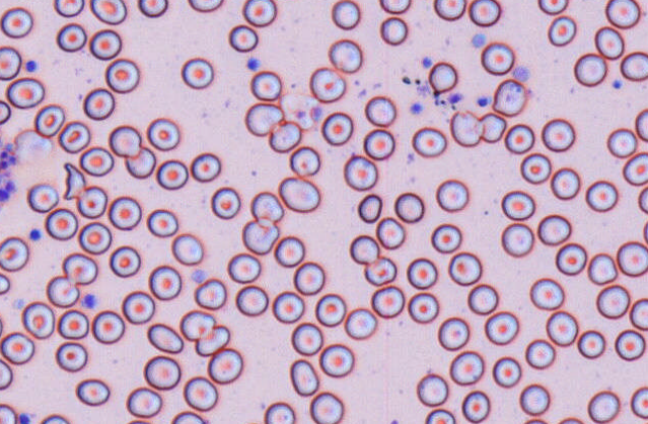PLT: (81, 292, 98, 311), (28, 226, 44, 245), (246, 56, 262, 71), (476, 93, 492, 108), (409, 103, 426, 115), (17, 412, 34, 424), (448, 92, 464, 104), (25, 59, 38, 73), (421, 56, 434, 70), (612, 78, 625, 91)
RBC: (278, 176, 320, 212), (242, 218, 279, 254), (207, 347, 243, 384), (143, 355, 181, 390), (244, 102, 283, 136), (309, 66, 345, 102), (492, 78, 526, 116), (21, 301, 55, 339), (183, 375, 218, 411), (449, 350, 484, 385), (484, 310, 519, 345), (343, 154, 377, 190), (105, 57, 139, 93), (449, 109, 482, 146), (13, 128, 52, 159), (5, 77, 44, 108), (319, 343, 354, 377), (328, 38, 362, 73), (596, 284, 630, 319), (91, 309, 125, 344), (447, 251, 482, 285), (541, 117, 575, 152), (545, 310, 578, 346), (148, 264, 181, 300), (573, 52, 607, 86), (480, 41, 514, 75), (121, 290, 155, 324), (146, 117, 180, 151), (62, 252, 97, 285), (501, 222, 534, 257), (529, 277, 564, 310), (108, 195, 141, 230), (179, 309, 215, 341), (126, 386, 162, 418), (146, 322, 183, 353), (289, 358, 319, 396), (0, 331, 34, 364), (370, 285, 404, 318), (78, 221, 112, 254), (435, 178, 468, 212), (309, 391, 344, 423), (616, 240, 647, 276), (587, 390, 620, 423), (290, 322, 323, 355), (45, 207, 78, 240), (57, 120, 90, 153), (108, 124, 141, 157), (585, 179, 618, 212), (82, 87, 115, 120), (195, 324, 229, 356), (250, 191, 284, 223), (437, 316, 469, 350), (293, 261, 325, 295), (537, 213, 571, 245), (314, 293, 346, 327), (321, 111, 353, 145), (180, 57, 214, 89), (411, 126, 446, 157), (46, 275, 79, 307), (268, 120, 301, 152), (124, 145, 156, 178), (416, 373, 448, 406), (344, 307, 377, 339), (0, 6, 33, 38), (272, 290, 304, 323), (171, 232, 203, 265), (235, 284, 268, 316), (555, 242, 587, 275), (227, 252, 261, 283), (34, 103, 65, 137), (79, 146, 114, 176), (407, 291, 439, 323), (109, 245, 141, 277), (364, 95, 396, 127), (363, 128, 395, 160), (89, 28, 121, 60), (76, 185, 107, 218), (594, 25, 624, 59), (550, 166, 580, 200), (501, 190, 535, 220), (0, 236, 29, 271), (519, 383, 550, 415), (274, 235, 305, 267), (614, 329, 645, 361), (520, 152, 551, 184), (194, 278, 226, 309), (55, 341, 87, 372), (467, 283, 498, 315), (406, 257, 437, 289), (156, 159, 188, 190), (363, 256, 396, 286), (375, 216, 405, 249), (587, 252, 617, 285), (210, 186, 240, 219), (75, 378, 110, 406), (605, 0, 640, 28), (524, 338, 555, 369), (289, 145, 320, 176), (606, 127, 637, 158), (250, 70, 281, 101), (57, 309, 89, 339), (394, 191, 424, 222), (504, 123, 534, 154), (430, 223, 461, 253), (190, 152, 221, 182), (461, 390, 490, 422), (146, 208, 178, 237), (27, 183, 59, 212), (89, 0, 127, 24), (349, 234, 379, 264), (56, 22, 86, 52), (547, 15, 576, 46), (492, 356, 521, 387), (428, 61, 457, 92), (242, 0, 276, 26), (622, 151, 647, 186), (468, 0, 501, 26), (331, 0, 360, 29), (478, 112, 506, 142), (228, 24, 258, 52), (577, 329, 605, 358), (379, 16, 407, 45), (620, 51, 647, 81), (357, 193, 382, 223), (0, 45, 21, 80), (263, 401, 295, 423), (433, 0, 466, 20), (629, 297, 647, 330), (630, 386, 647, 419), (137, 0, 168, 17), (53, 0, 84, 17), (170, 410, 207, 423), (424, 408, 455, 423), (537, 0, 568, 15), (379, 0, 411, 14), (187, 0, 223, 12), (0, 358, 13, 390), (635, 108, 647, 141), (0, 403, 16, 423), (40, 413, 69, 423), (0, 99, 11, 124), (638, 185, 647, 213), (0, 272, 10, 294), (557, 416, 584, 423), (522, 417, 548, 423), (126, 419, 151, 424), (643, 219, 648, 244), (0, 315, 3, 337)
Schistocyte: (62, 162, 87, 201)
